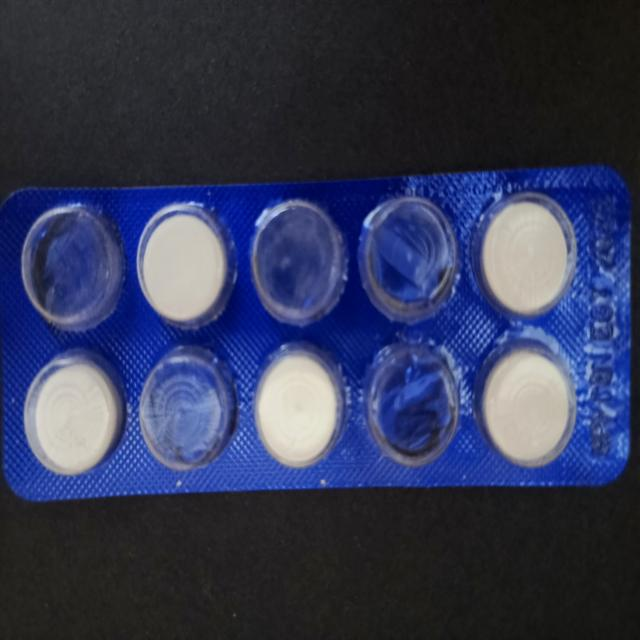defect: (17, 199, 130, 338), (356, 192, 464, 328), (136, 338, 241, 475), (247, 195, 351, 332), (361, 336, 465, 471)
